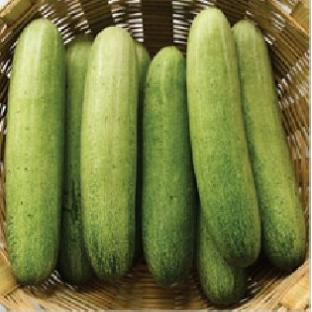Cucumber: (187, 8, 260, 266), (233, 21, 306, 268), (6, 20, 65, 284), (81, 27, 137, 279), (143, 47, 195, 286), (58, 35, 93, 284), (198, 208, 246, 304), (134, 42, 150, 262)
